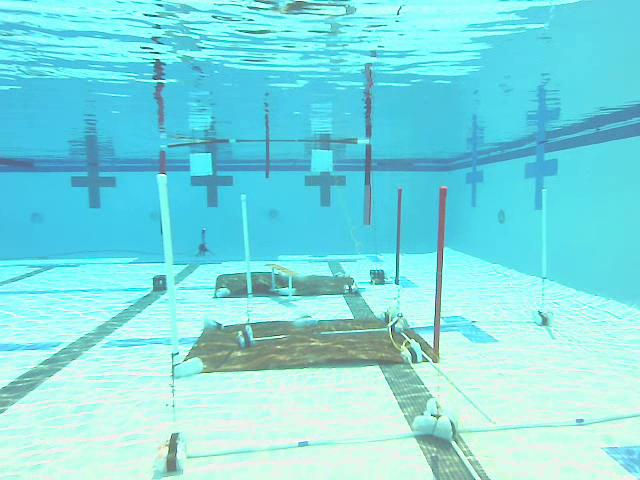black_poster: (433, 187, 447, 362), (392, 188, 403, 284)
divider: (265, 142, 271, 178)
left_gate_poster: (363, 143, 374, 225)
right_gate_poster: (159, 148, 168, 224)
white_poster: (155, 174, 181, 358), (239, 193, 254, 295), (540, 189, 550, 278)
